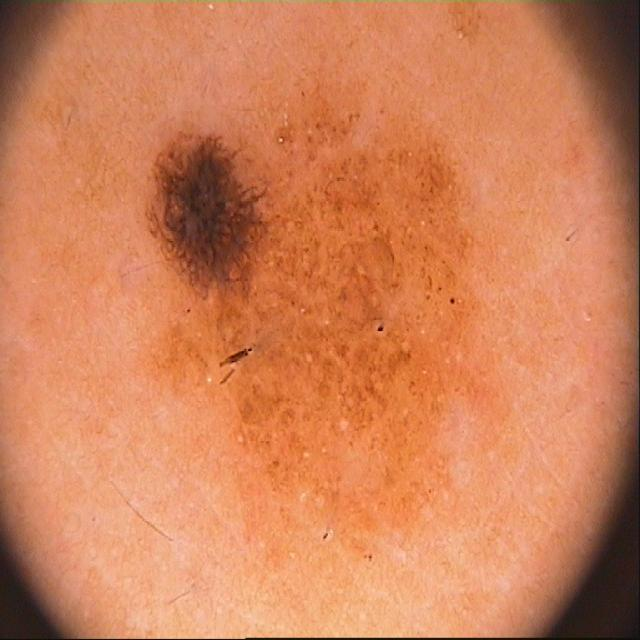Skin-Cancer Nevus: (17, 11, 620, 636)
